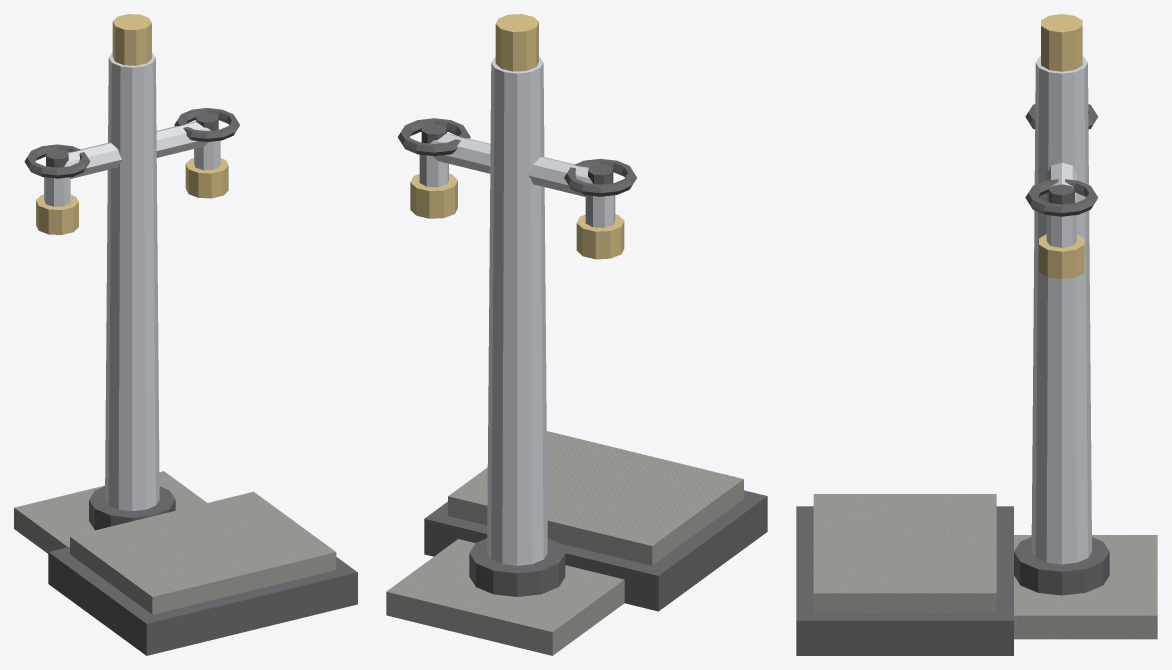
Rendered from distillery-and-bonded-warehouse-hose-point-3f3b0a3c__38686.glb.
The picture shows the model from 3 angles, left to right: view 1: azimuth 30°, elevation 25°; view 2: azimuth 150°, elevation 25°; view 3: azimuth 270°, elevation 25°; orthographic projection. The views are drawn at different scales.
Visible parts, largest first — view 1: hose-point-steel, hose-point-concrete, hose-point-iron, hose-point-brass; view 2: hose-point-concrete, hose-point-steel, hose-point-iron, hose-point-brass; view 3: hose-point-concrete, hose-point-steel, hose-point-iron, hose-point-brass.
Boxes of the visible parts, left/top/right/bottom form: hose-point-steel: left=44, top=52, right=220, bottom=511; hose-point-concrete: left=14, top=471, right=336, bottom=614; hose-point-iron: left=24, top=108, right=357, bottom=655; hose-point-brass: left=36, top=14, right=228, bottom=234; hose-point-concrete: left=386, top=431, right=743, bottom=655; hose-point-steel: left=419, top=56, right=615, bottom=565; hose-point-iron: left=397, top=118, right=767, bottom=611; hose-point-brass: left=410, top=14, right=624, bottom=259; hose-point-concrete: left=813, top=494, right=1157, bottom=639; hose-point-steel: left=1031, top=56, right=1091, bottom=564; hose-point-iron: left=796, top=104, right=1109, bottom=655; hose-point-brass: left=1039, top=14, right=1084, bottom=279.
Bounding box in the file's own units: 0.62 × 1.46 × 0.83.
Materials: 4 (1 with a texture image).
